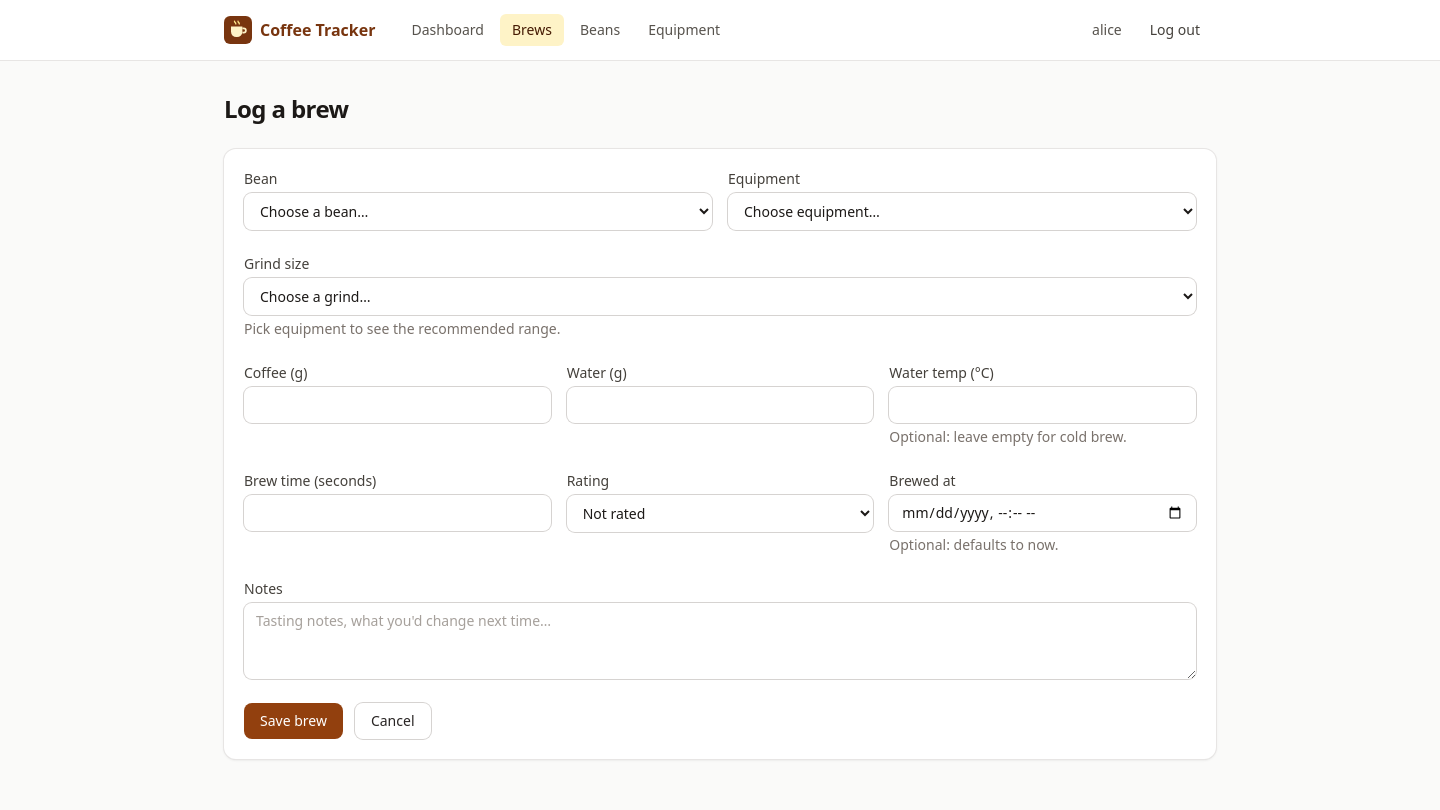
BrewFormPage › warns immediately when the grind does not suit the method
The image size is (1440, 810).
Select "Gaggia Classic (Espresso)" in the dropdown labelled "Equipment" at (962, 212), box [728,193,1196,230]
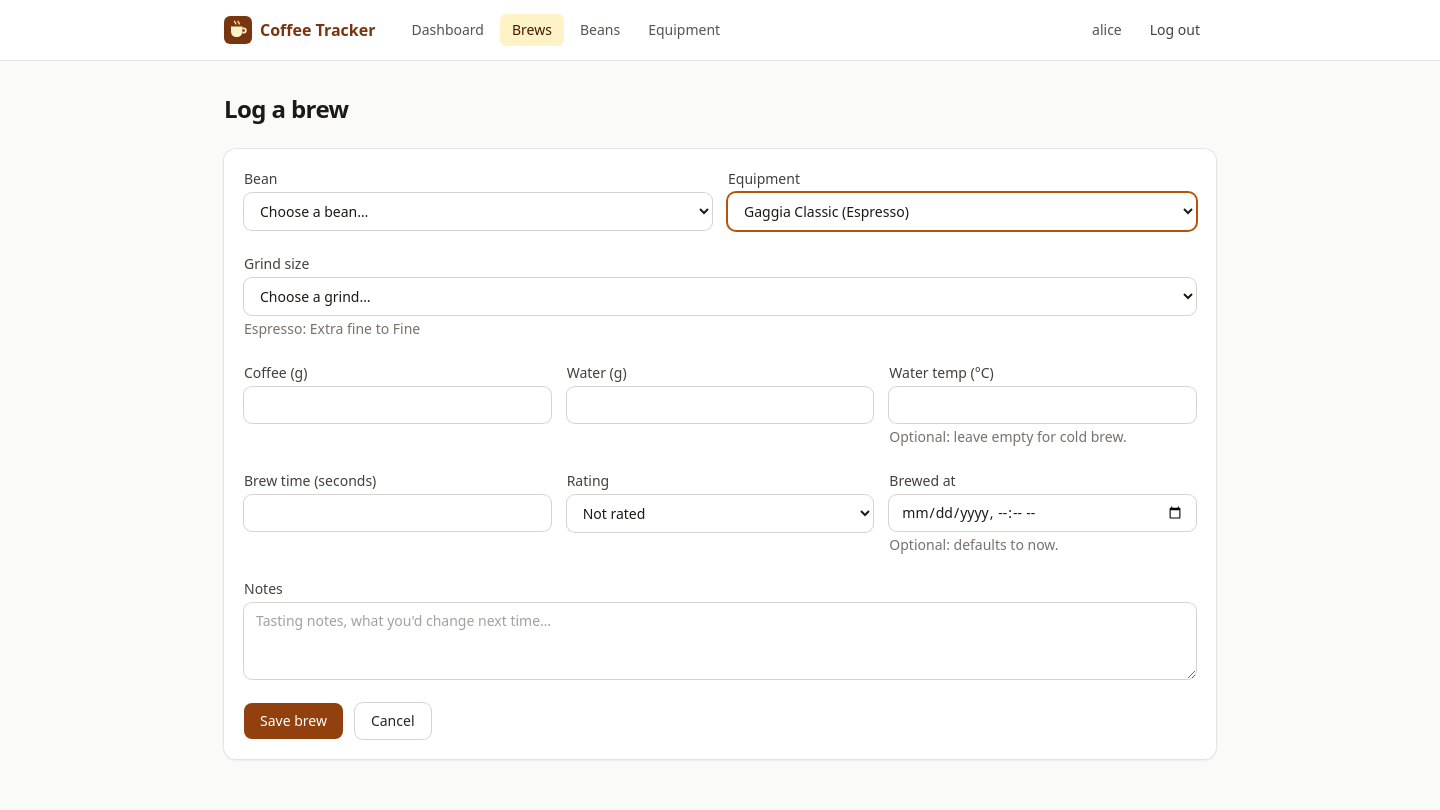
Select "Coarse" in the dropdown labelled "Grind size" at (720, 296), box [244,278,1196,315]
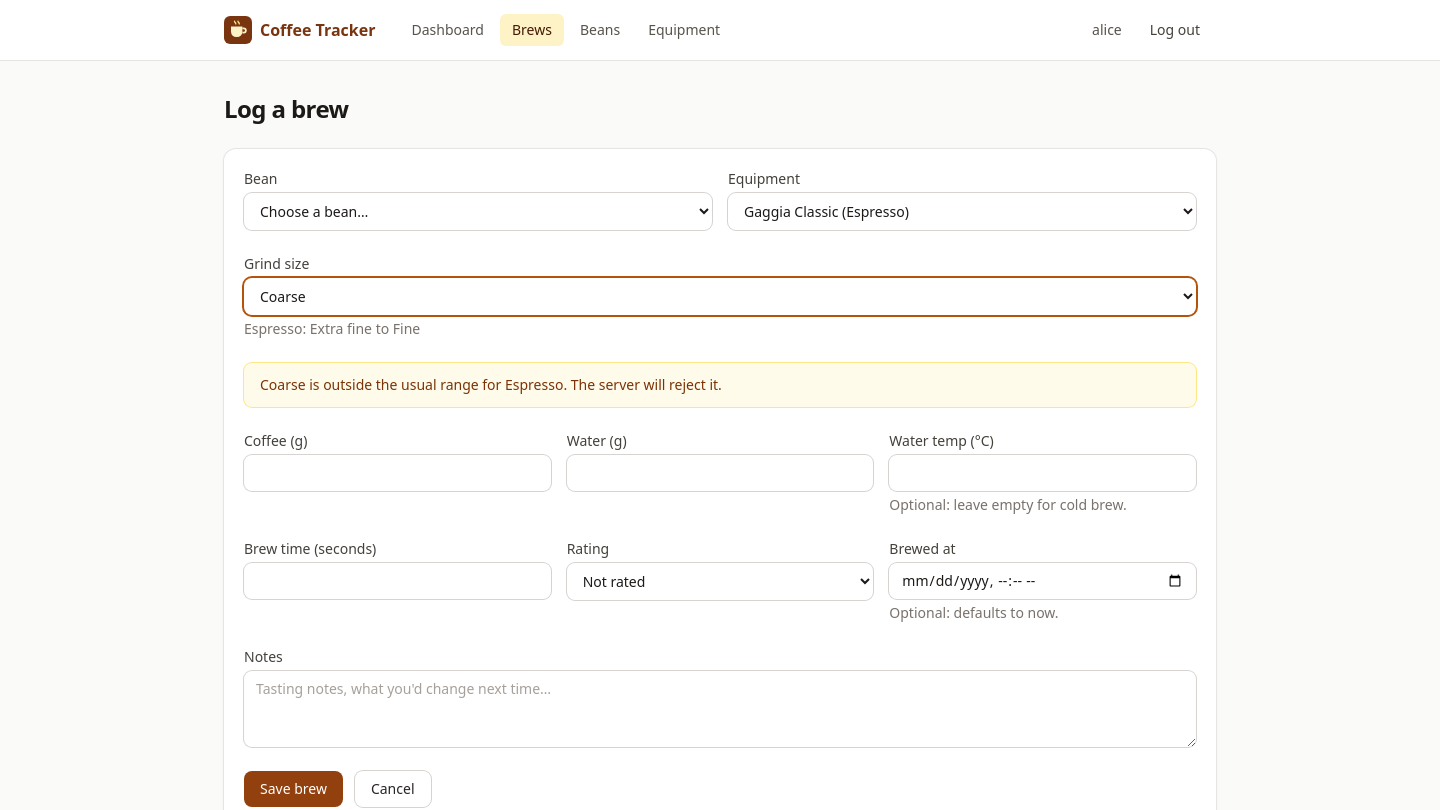
Expected: the message shows "Coarse is outside the usual range for Espresso", [260,375,567,394]
